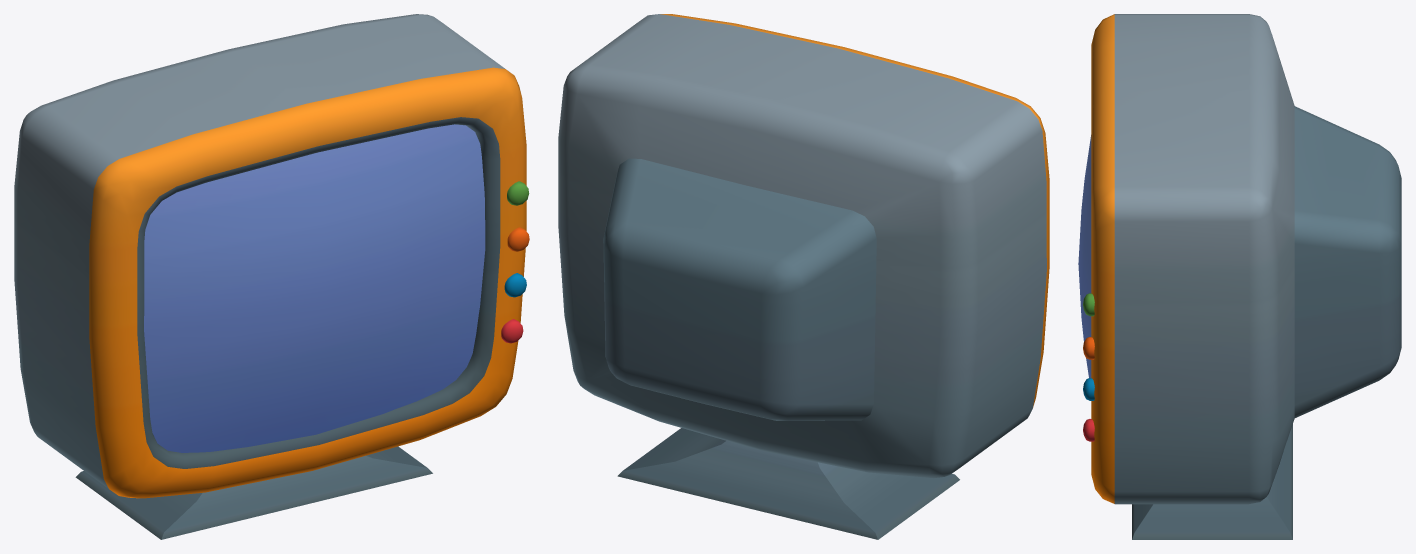
3 renders of one model, left to right at view 1: azimuth 30°, elevation 25°; view 2: azimuth 150°, elevation 25°; view 3: azimuth 270°, elevation 25°, orthographic. The views are drawn at different scales.
Parts seen in each view (by area): view 1: TV_02; view 2: TV_02; view 3: TV_02.
Boxes of the visible parts, x1=… form: TV_02: x1=14, y1=14, x2=529, y2=539; TV_02: x1=558, y1=14, x2=1049, y2=539; TV_02: x1=1078, y1=14, x2=1401, y2=539.
Size of the model in its own units: 0.5675 by 0.5116 by 0.3888.
Materials: 1 (1 with a texture image).
